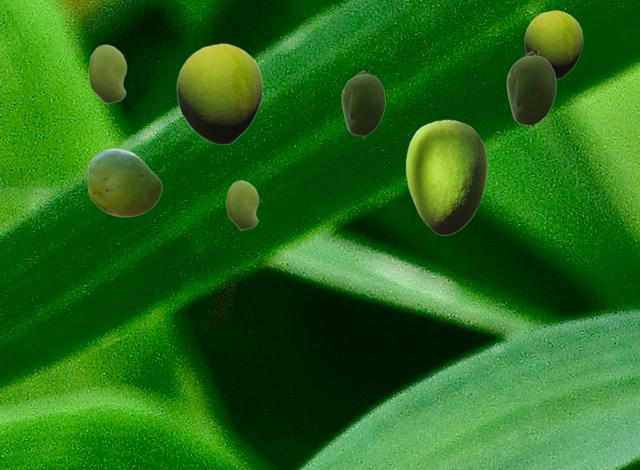green_mango: (405, 119, 487, 234), (176, 43, 262, 144), (87, 148, 161, 216), (524, 10, 582, 78), (506, 51, 555, 128), (341, 70, 384, 138), (88, 44, 126, 103), (226, 180, 258, 229)
